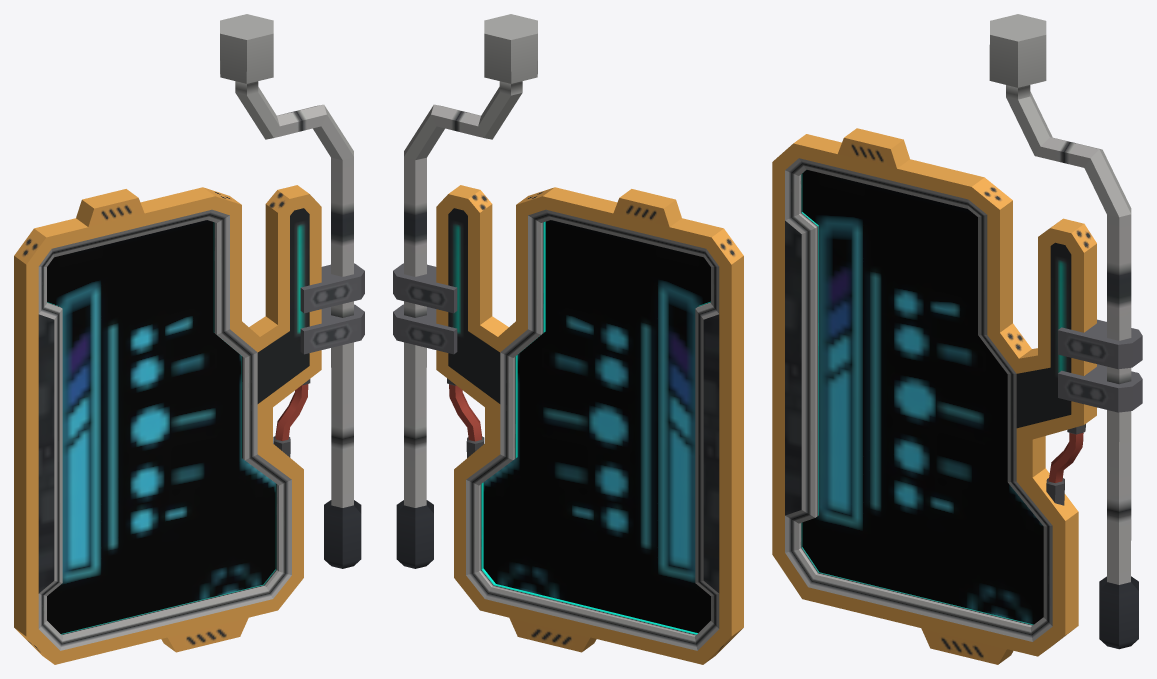
Rendered from cyber_SM_Prop_Monitor_03.gltf.
The picture shows the model from 3 angles, left to right: view 1: azimuth 30°, elevation 25°; view 2: azimuth 150°, elevation 25°; view 3: azimuth 330°, elevation 25°; orthographic projection. The views are drawn at different scales.
Visible parts, largest first — view 1: SM_Prop_Monitor_03; view 2: SM_Prop_Monitor_03; view 3: SM_Prop_Monitor_03.
Part boxes in pixels (x1,y1,x2,y2): SM_Prop_Monitor_03: (14,14,364,664); SM_Prop_Monitor_03: (393,14,743,664); SM_Prop_Monitor_03: (772,14,1142,664).
Bounding box in the file's own units: 0.8292 × 1.4 × 0.1132.
1 material, 1 textured.
